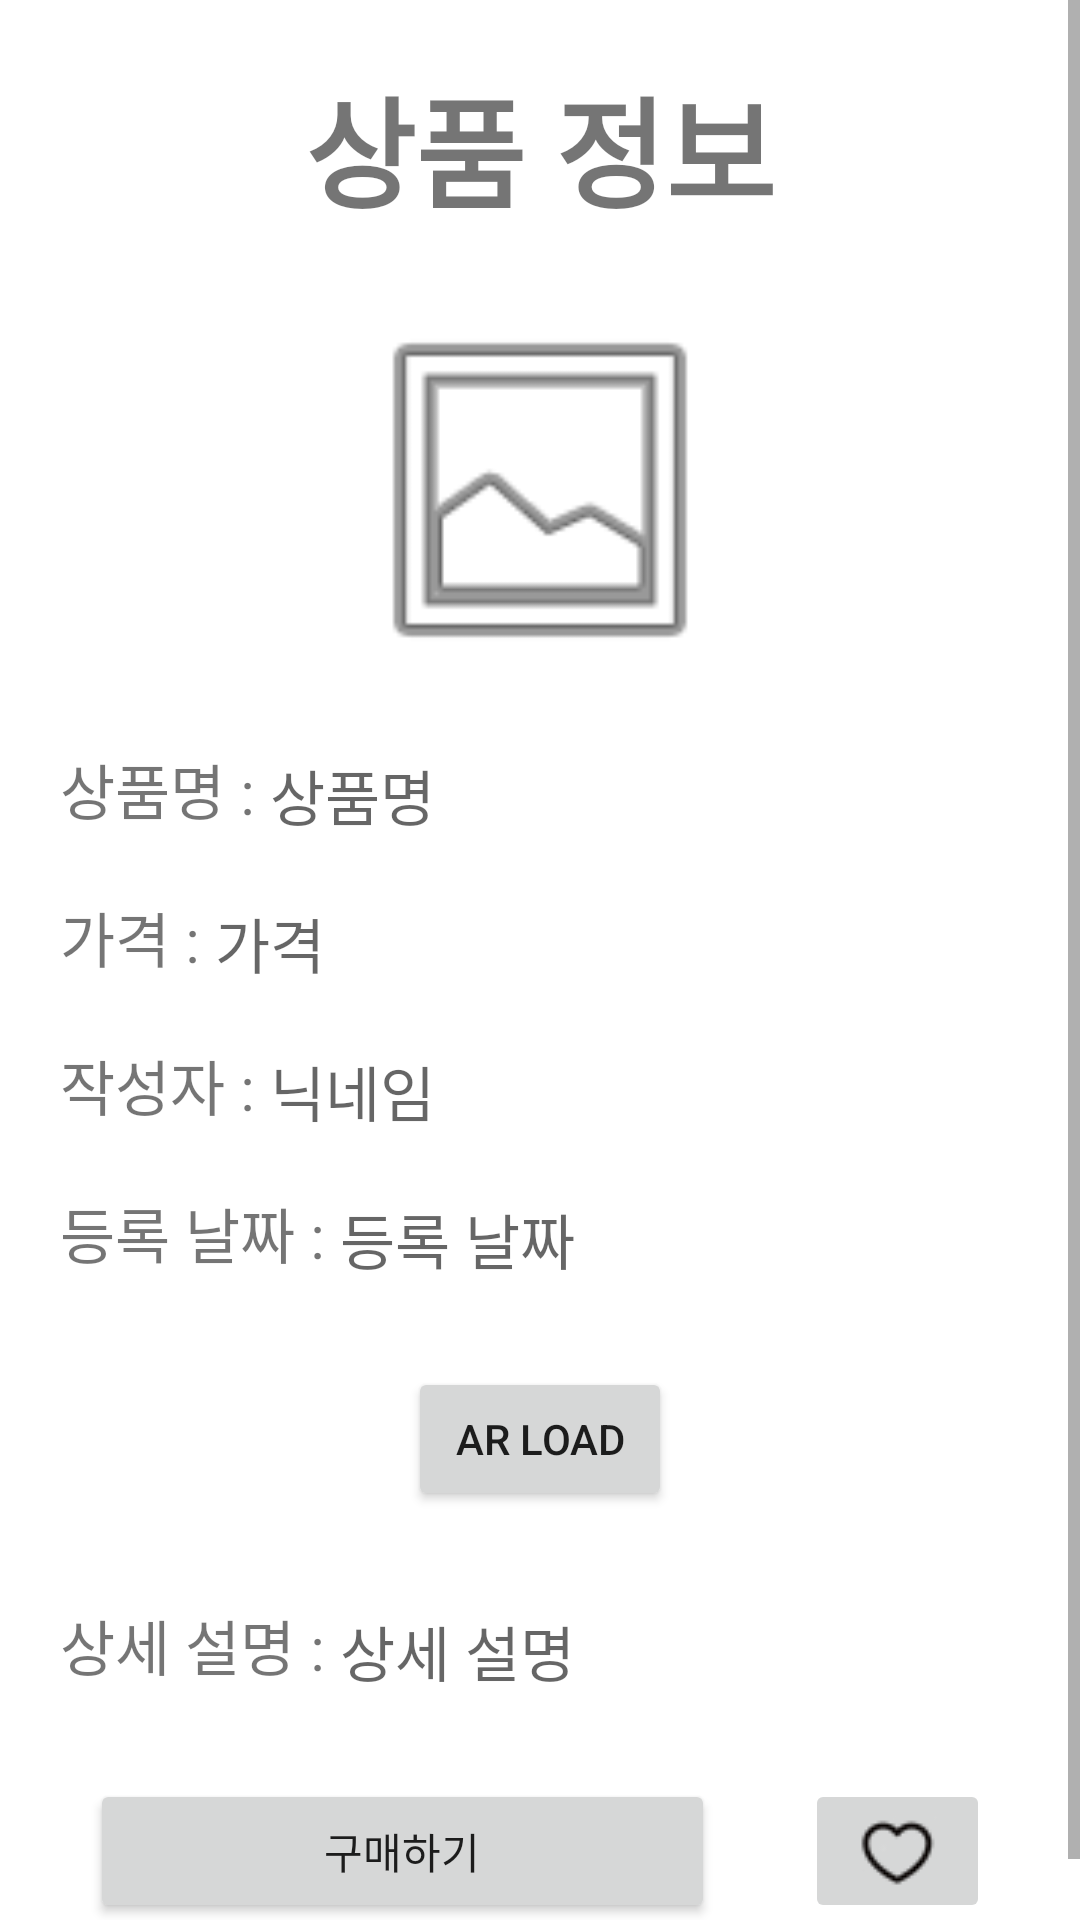

Icon bounding boxes for this 1080w x 1920h phone screenshot, format {"left": x1, "top": y1, "right": x2, "bottom": y2}:
gallery: {"left": 393, "top": 343, "right": 687, "bottom": 637}
heart before: {"left": 817, "top": 1797, "right": 978, "bottom": 1905}
